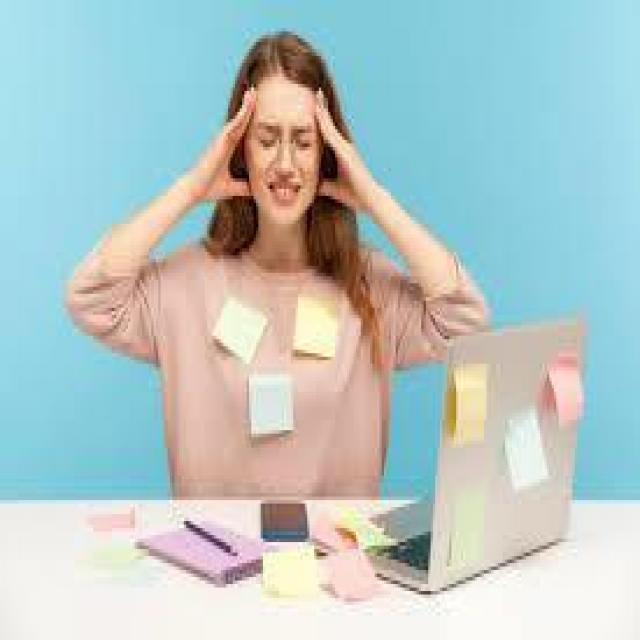person: (63, 11, 507, 528)
